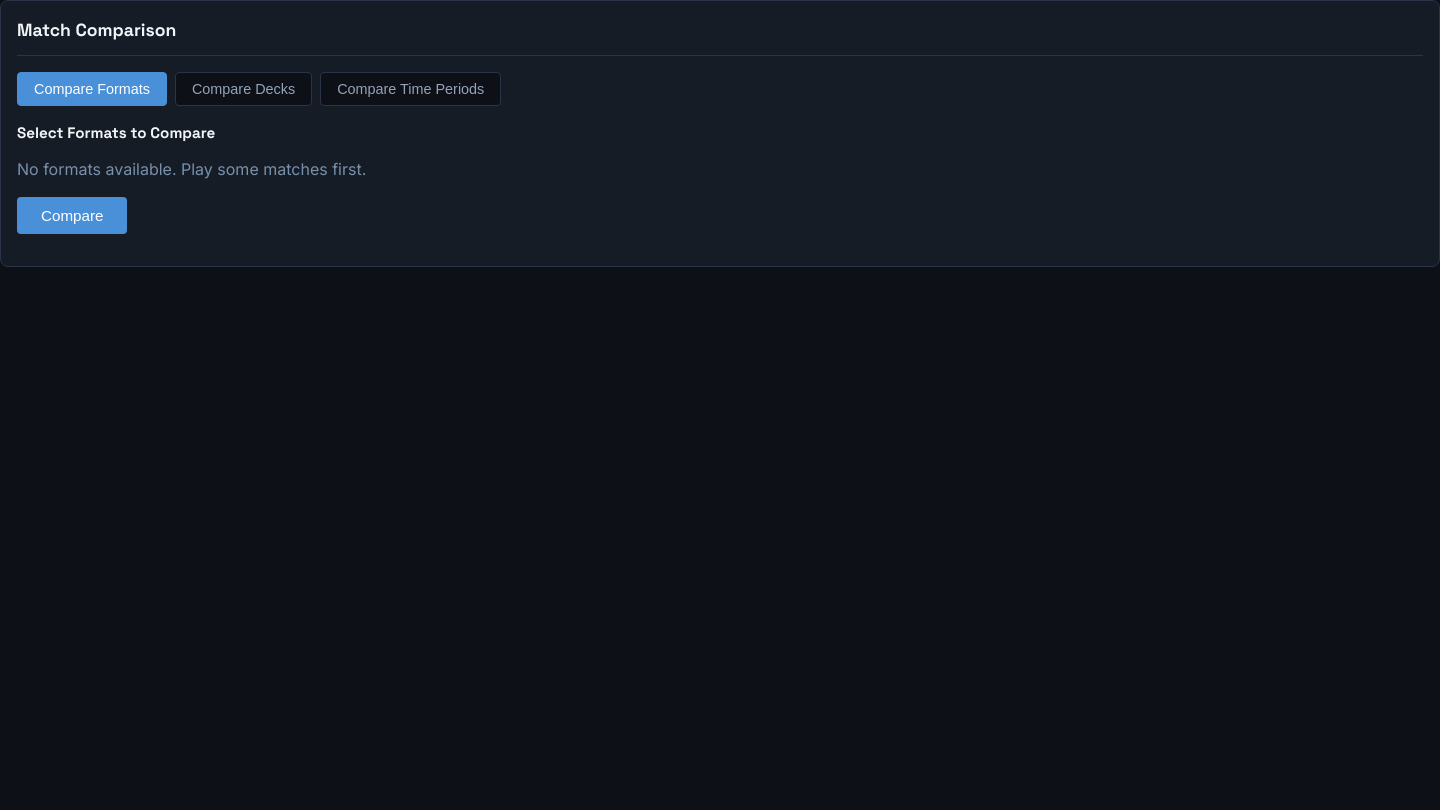
Test: MatchComparisonPanel › deck comparison display › displays insightful comparison text for deck comparison
Note: Switch to decks comparison
Click the button "Compare Decks" at (244, 89), box [175,72,312,106]
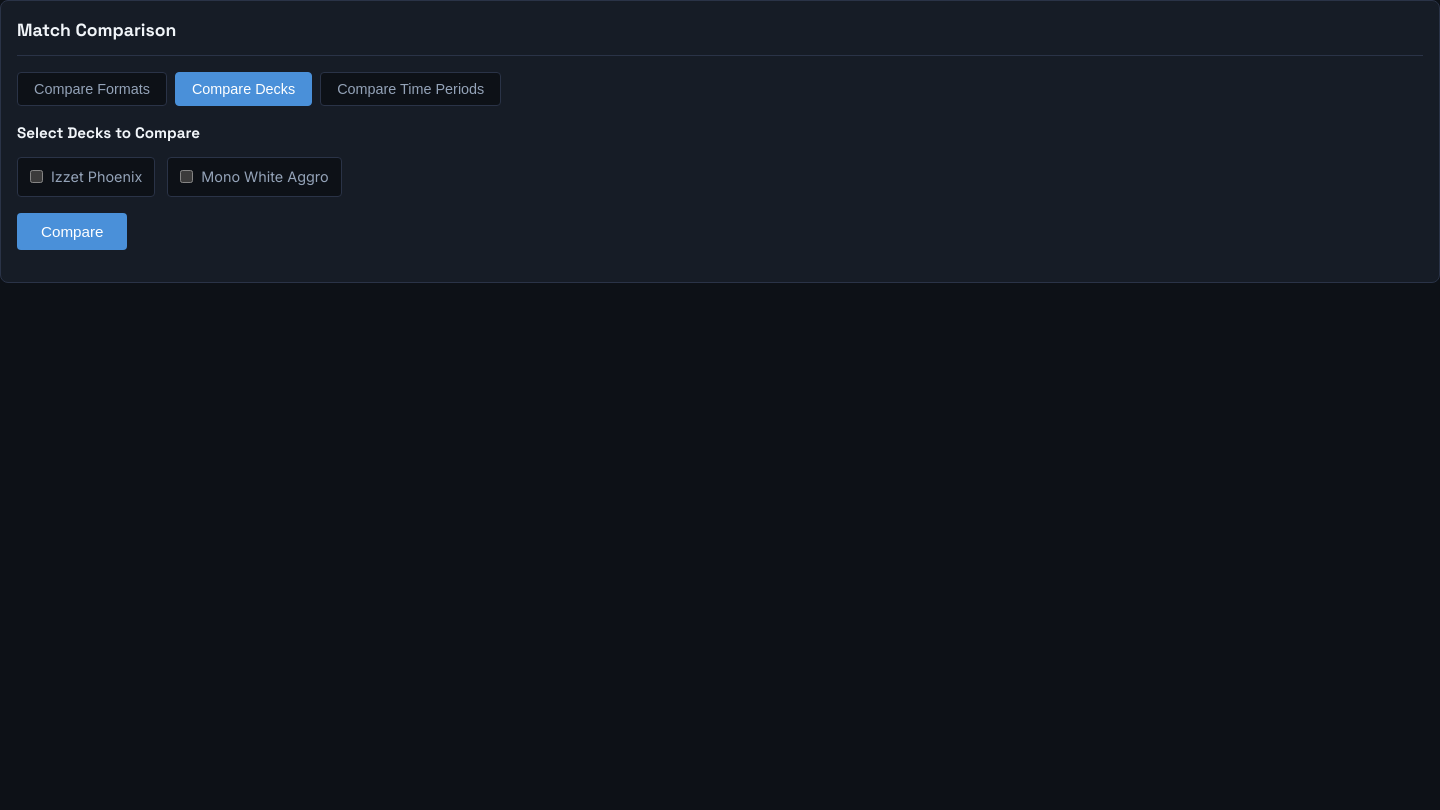
Note: Select decks
Click the checkbox labelled "Izzet Phoenix" at (36, 177), box [30,170,43,184]
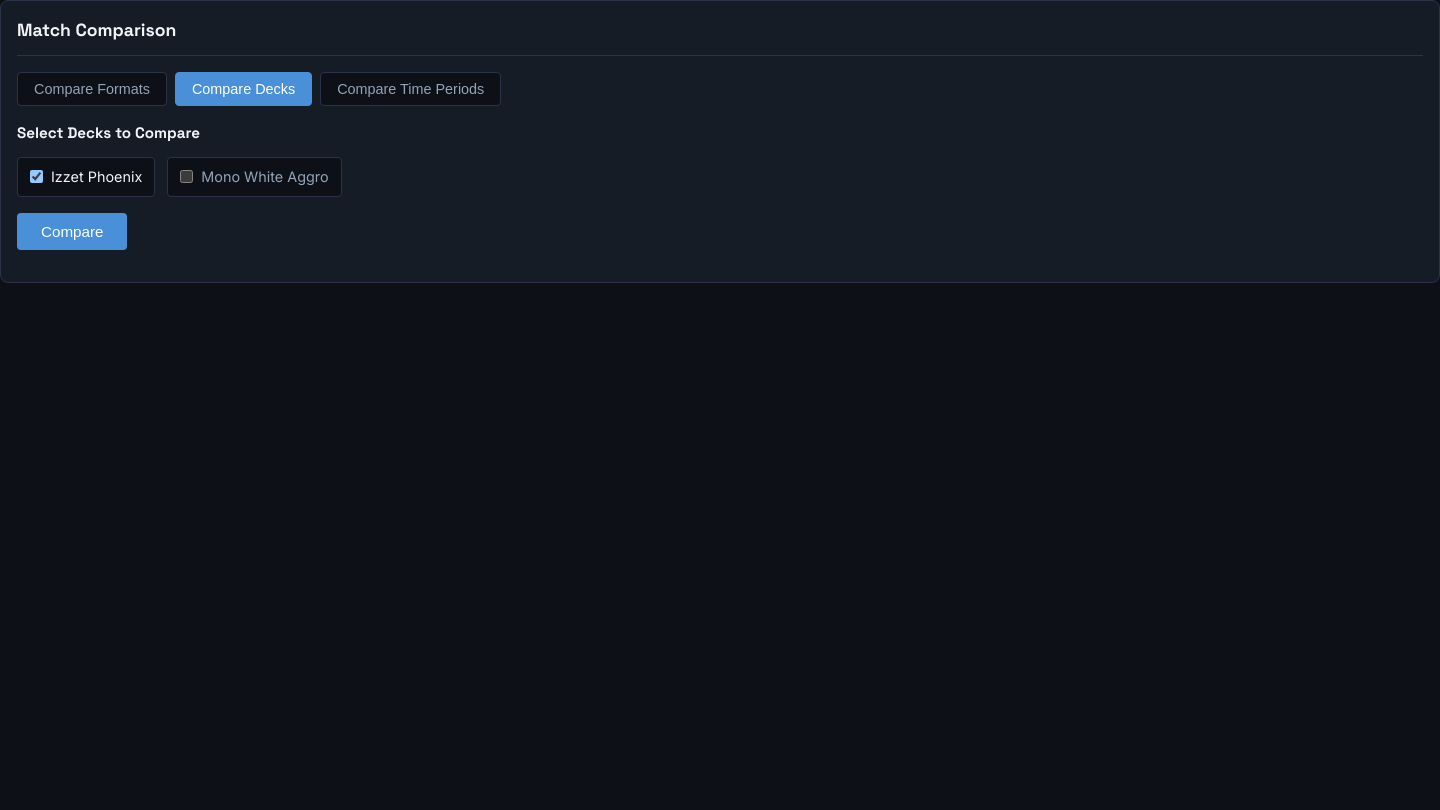
Click the checkbox labelled "Mono White Aggro" at (187, 177), box [180,170,193,184]
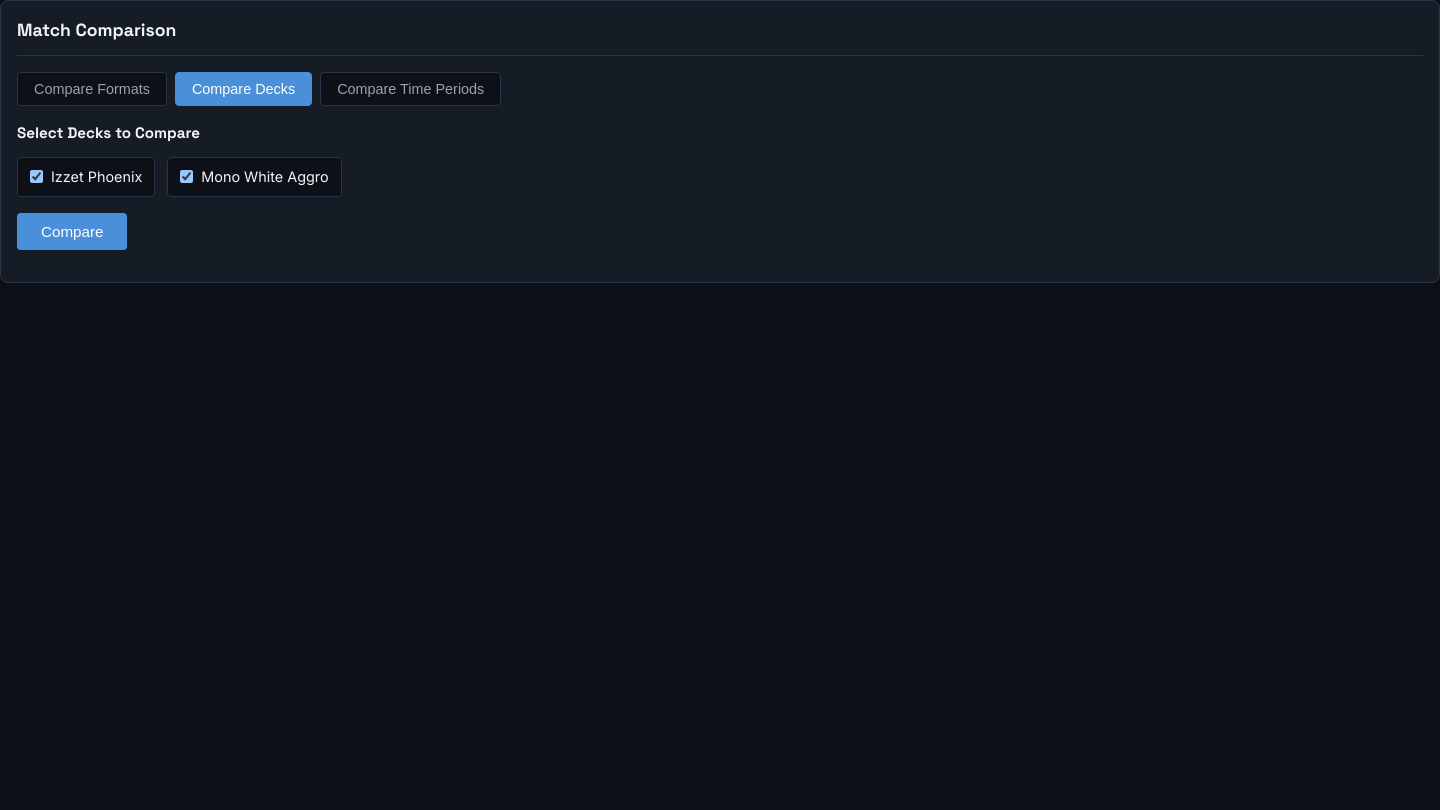
Note: Click compare
Click the button "Compare" at (72, 231), box [17,213,128,250]
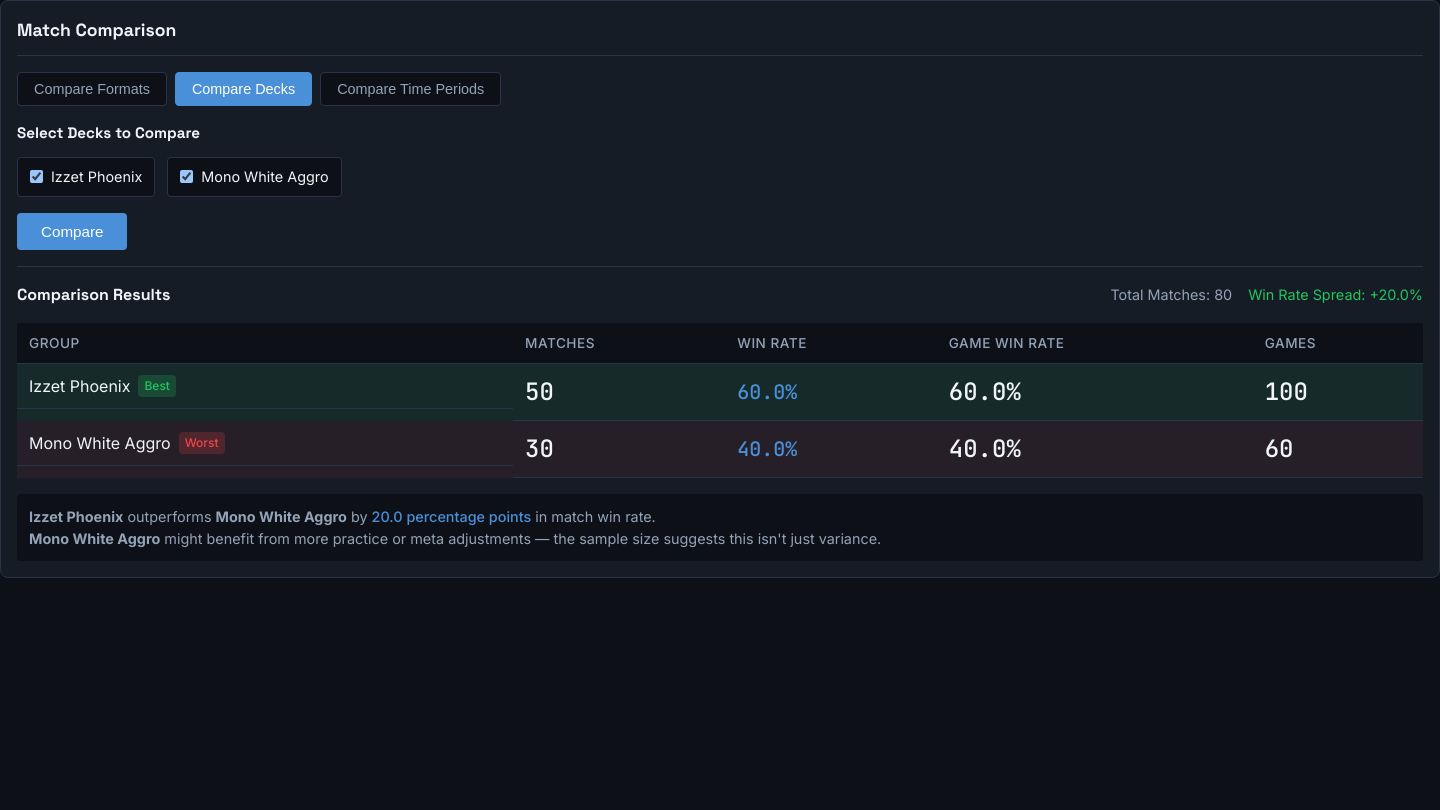
Now the text "Izzet Phoenix" below "Select Decks to Compare" is shown, box [51,168,142,185]
Now the text "outperforms" is shown, box [123,508,216,525]
Now the text "20.0 percentage points" is shown, box [372,508,531,525]
